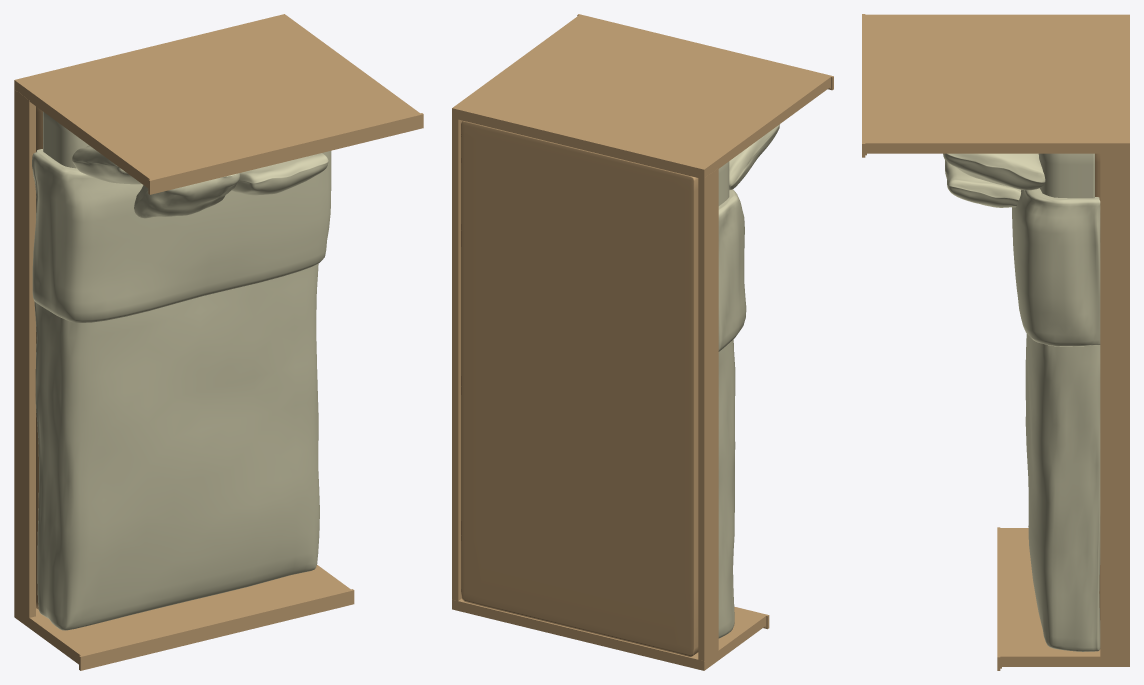
File: bed.obj
3 renders of one model, left to right at view 1: azimuth 30°, elevation 25°; view 2: azimuth 150°, elevation 25°; view 3: azimuth 270°, elevation 25°, orthographic. The views are drawn at different scales.
Visible parts, largest first — view 1: Box5161, Box5158, Box5157, Box5156, Box5165, Box5164, Box5159, Box5160, Box5162; view 2: Box5162, Box5158, Box5156, Box5161, Box5155, Box5157, Box5160; view 3: Box5158, Box5161, Box5155, Box5157, Box5163, Box5159, Box5164.
Boxes of the visible parts, box(x1,y1,x2,y2) form: Box5161: box(32, 149, 331, 630); Box5158: box(14, 14, 423, 194); Box5157: box(14, 565, 354, 670); Box5156: box(14, 89, 35, 617); Box5165: box(134, 173, 239, 218); Box5164: box(231, 153, 328, 195); Box5159: box(43, 111, 88, 168); Box5160: box(72, 145, 141, 184); Box5162: box(36, 106, 42, 609); Box5162: box(461, 120, 698, 656); Box5158: box(452, 14, 833, 178); Box5156: box(698, 168, 718, 660); Box5161: box(718, 189, 746, 638); Box5155: box(452, 117, 462, 600); Box5157: box(452, 598, 769, 670); Box5160: box(729, 124, 779, 190); Box5158: box(862, 14, 1129, 157); Box5161: box(1012, 188, 1100, 651); Box5155: box(1100, 152, 1129, 656); Box5157: box(997, 527, 1129, 670); Box5163: box(943, 153, 1045, 190); Box5159: box(1038, 153, 1094, 198); Box5164: box(945, 160, 1020, 207).
Size of the model in its own units: 106 by 199 by 91.66.
